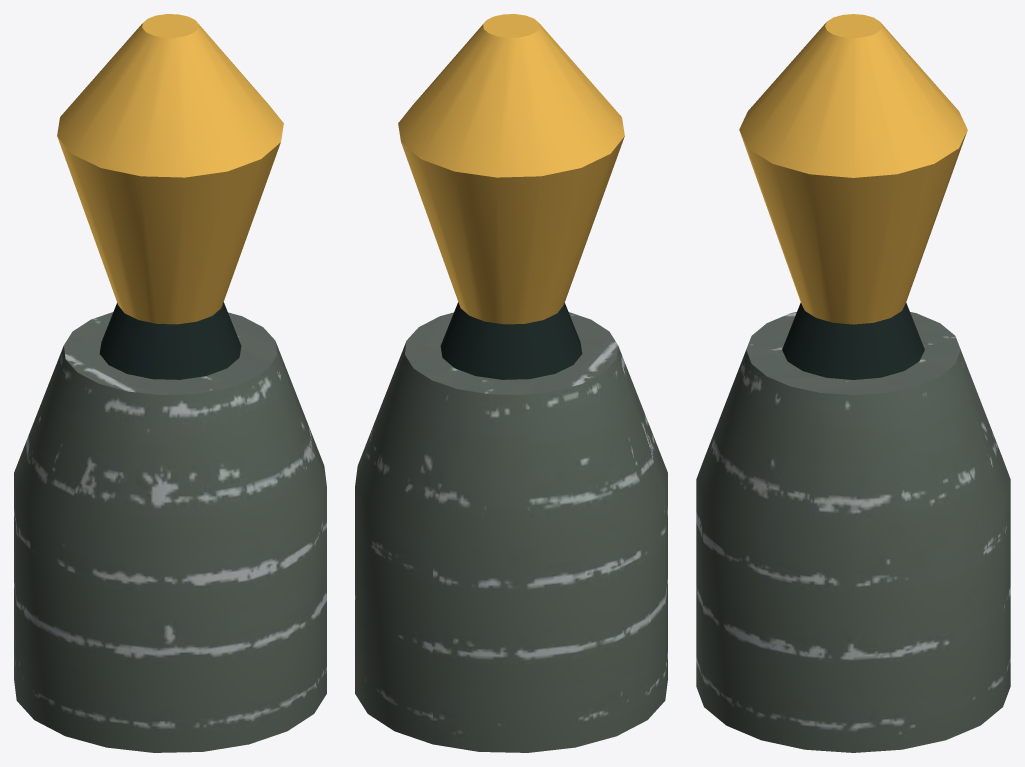
The model's file is portable-runway-flare-pot.glb.
3 views of the same model, side by side, from view 1: azimuth 30°, elevation 25°; view 2: azimuth 150°, elevation 25°; view 3: azimuth 270°, elevation 25° (orthographic).
Visible parts, largest first — view 1: Pot, LitMarker, UnlitMarker; view 2: Pot, LitMarker, UnlitMarker; view 3: Pot, LitMarker, UnlitMarker.
Part boxes in pixels (bbox=[...]): Pot: bbox=[14, 312, 326, 752]; LitMarker: bbox=[57, 14, 283, 324]; UnlitMarker: bbox=[99, 302, 241, 379]; Pot: bbox=[355, 312, 667, 752]; LitMarker: bbox=[398, 14, 624, 324]; UnlitMarker: bbox=[440, 302, 582, 379]; Pot: bbox=[696, 312, 1010, 752]; LitMarker: bbox=[739, 14, 967, 324]; UnlitMarker: bbox=[782, 302, 924, 379].
Bounding box in the file's own units: 0.44 × 1.02 × 0.44.
1 material, 1 textured.
